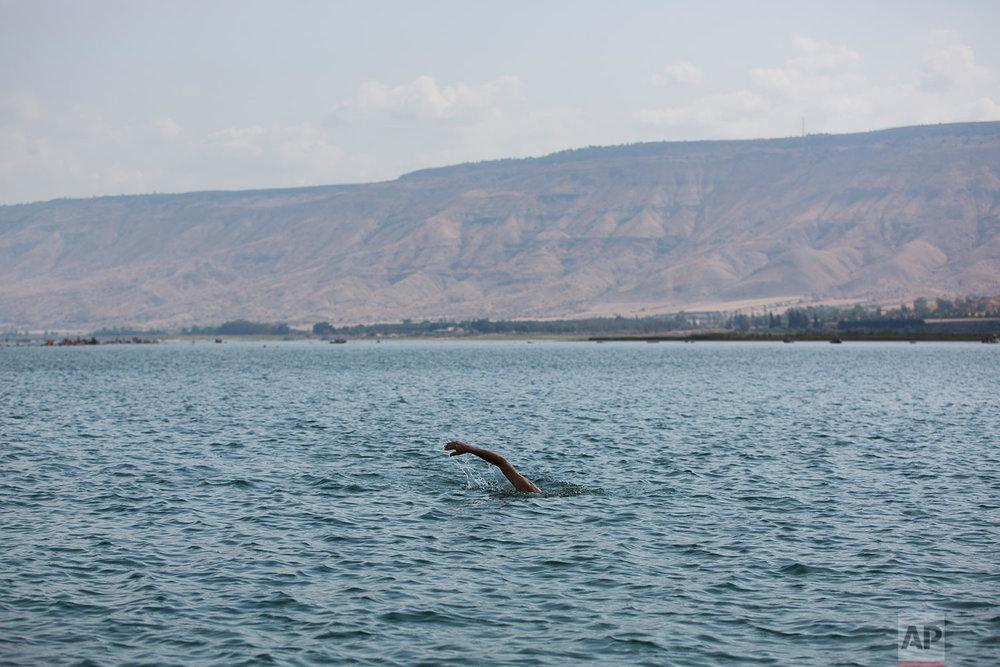swimmer: (438, 435, 542, 496)
